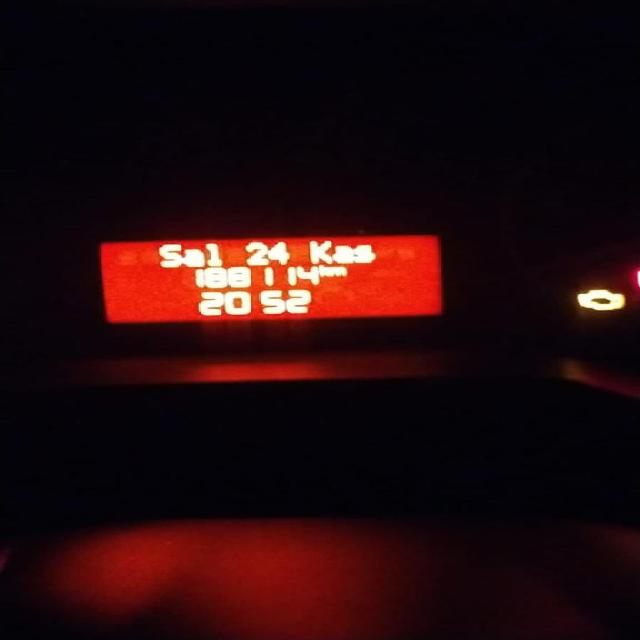odometer: (97, 233, 444, 325)
